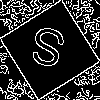S: (25, 25, 68, 78)
